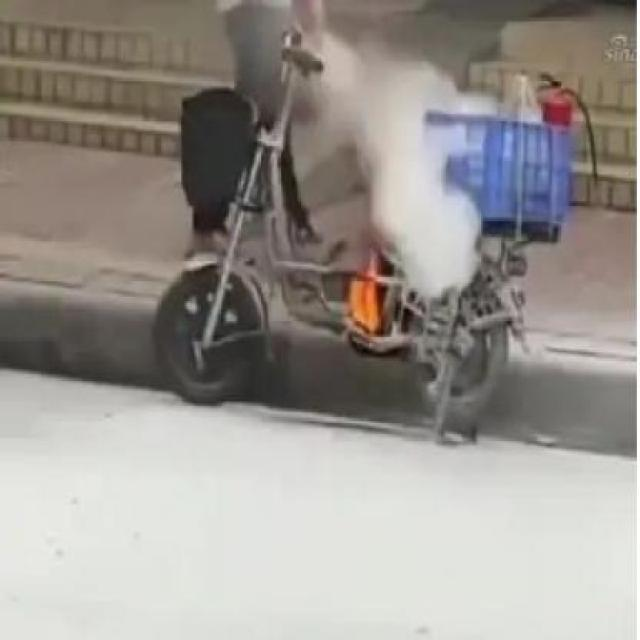Fire: (351, 264, 382, 330)
Smoke: (332, 49, 478, 288)
